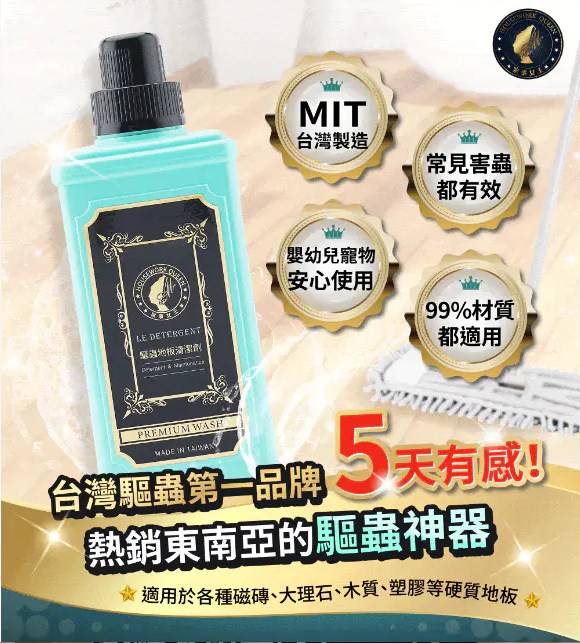cleaner: (51, 31, 281, 489)
